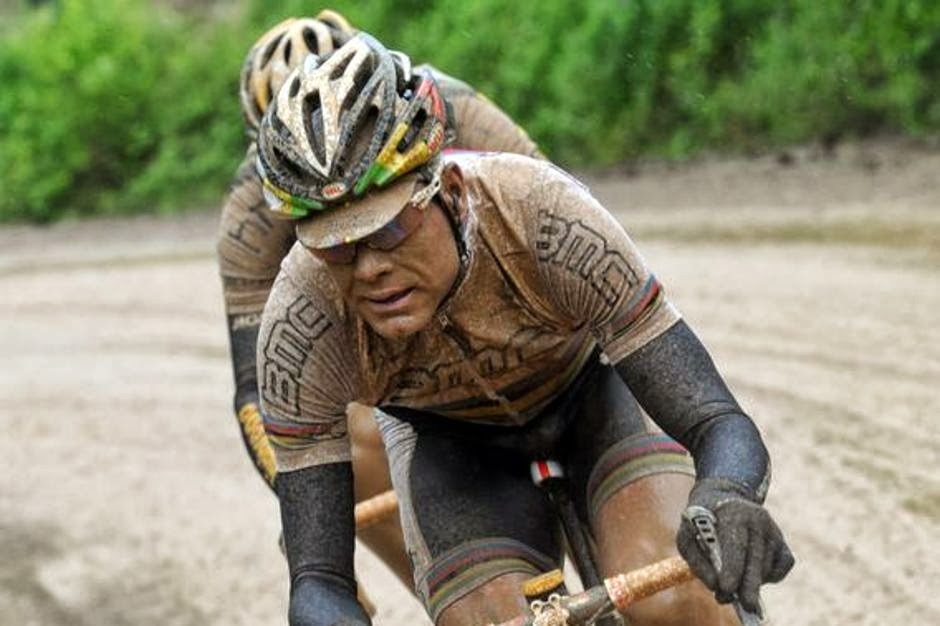with_helmet: (256, 31, 463, 328)
